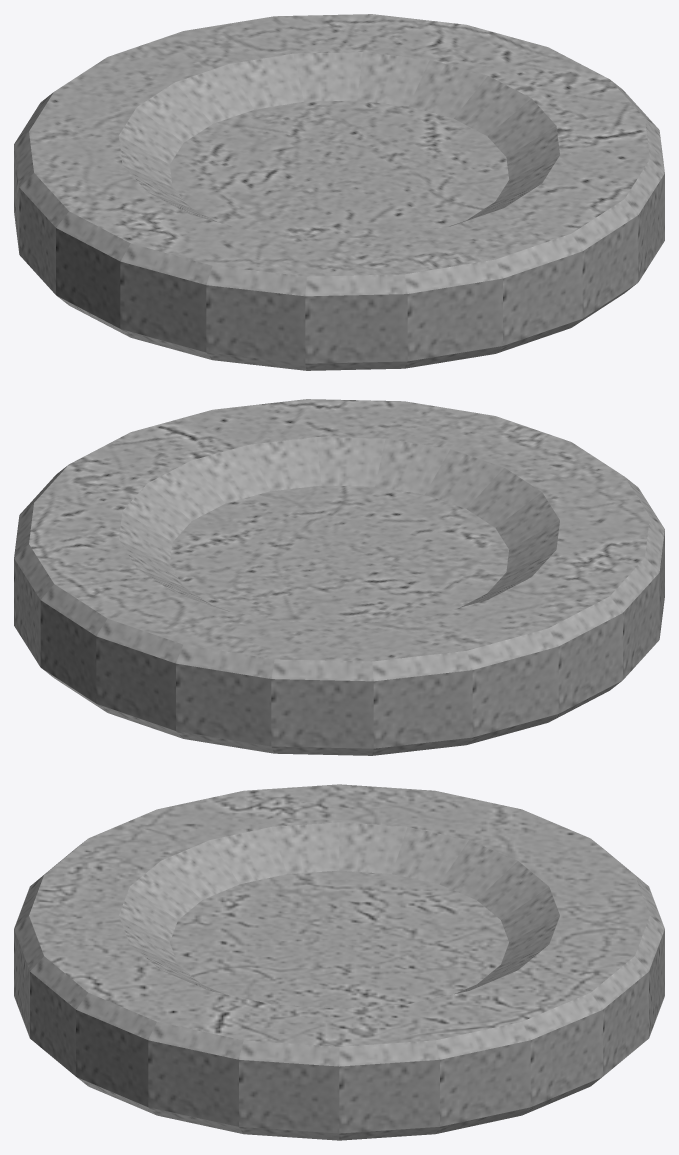
Rendered from stone.glb.
3 views of the same model, one above another, from view 1: azimuth 30°, elevation 25°; view 2: azimuth 150°, elevation 25°; view 3: azimuth 270°, elevation 25° (orthographic).
Visible parts, largest first — view 1: Root Node; view 2: Root Node; view 3: Root Node.
Part boxes in pixels (box(x1,y1,x2,y2)): Root Node: box(14, 14, 664, 370); Root Node: box(14, 399, 664, 755); Root Node: box(14, 784, 664, 1140).
Size of the model in its own units: 0.044 by 0.007 by 0.044.
104 materials, 104 textured.
